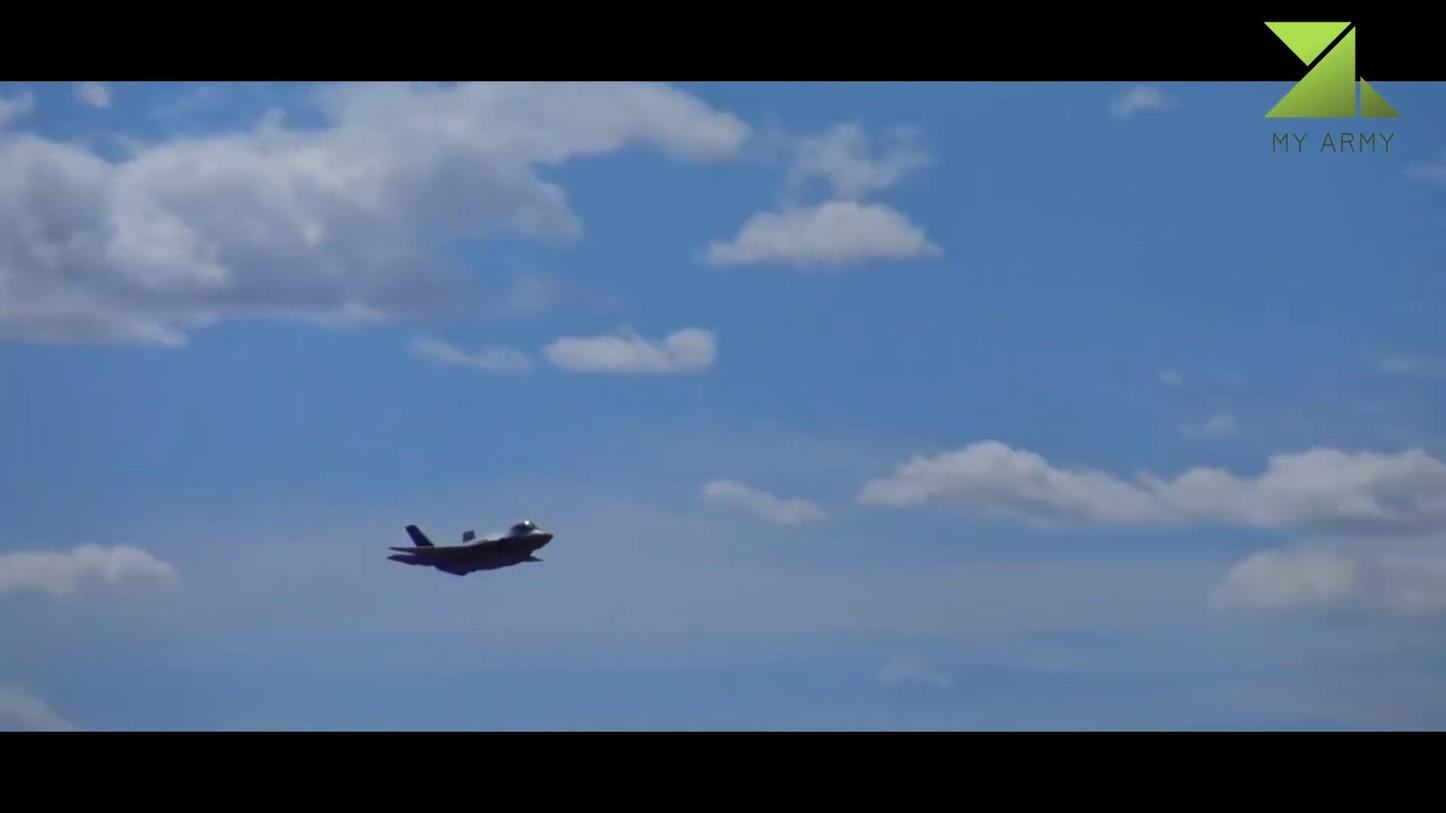F35: (386, 520, 554, 577)
